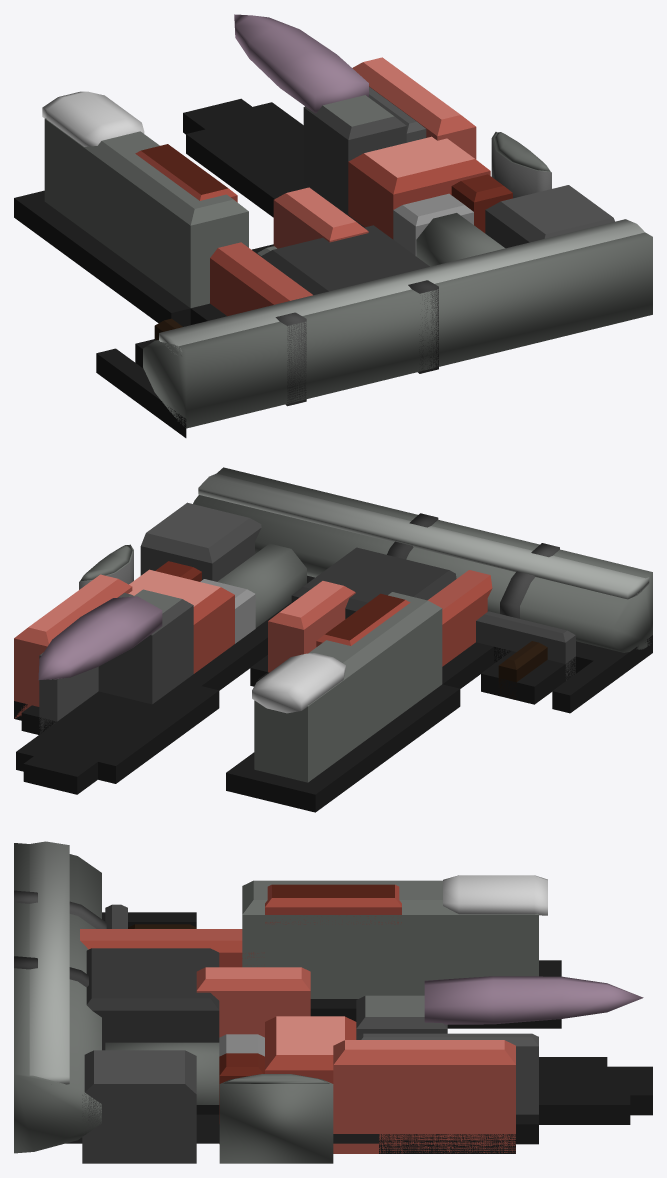
Rendered from newshu-15.glb.
The picture shows the model from 3 angles, top to bottom: view 1: azimuth 30°, elevation 25°; view 2: azimuth 150°, elevation 25°; view 3: azimuth 270°, elevation 25°; orthographic projection. The views are drawn at different scales.
Parts seen in each view (by area): view 1: newshu-15; view 2: newshu-15; view 3: newshu-15.
Part boxes in pixels (bbox=[...]): newshu-15: bbox=[14, 14, 652, 437]; newshu-15: bbox=[14, 467, 652, 812]; newshu-15: bbox=[14, 841, 652, 1163].
Size of the model in its own units: 2 by 0.52 by 2.33.
